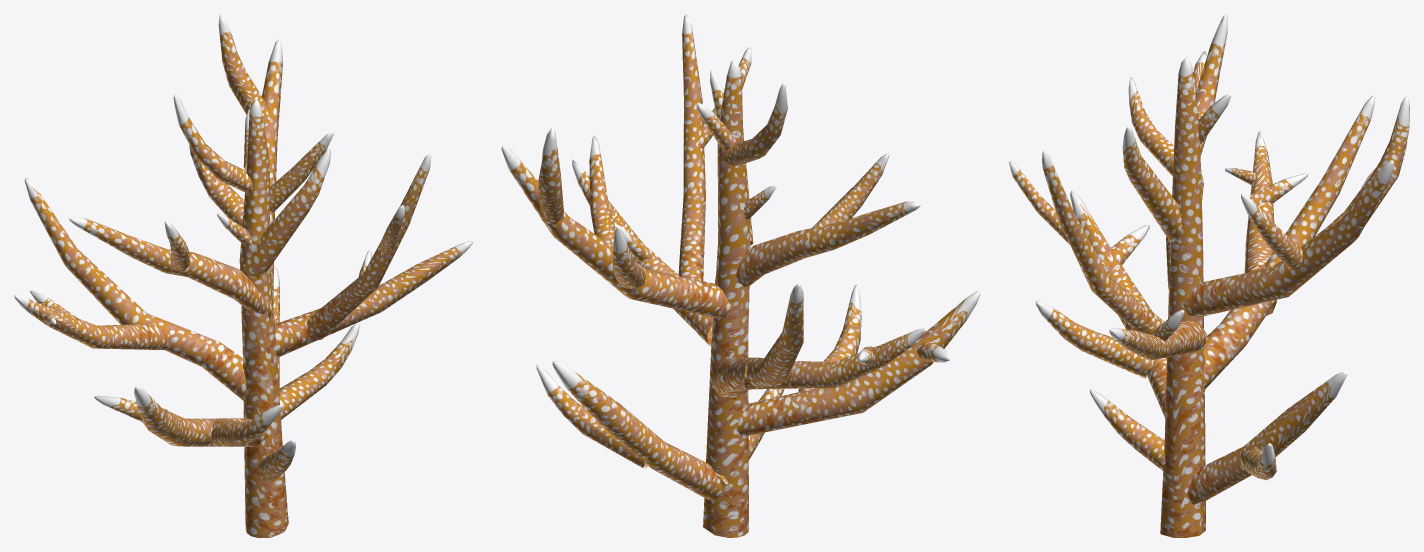
File: StaghornCoral00c.fbx
3 views of the same model, side by side, from view 1: azimuth 30°, elevation 25°; view 2: azimuth 150°, elevation 25°; view 3: azimuth 270°, elevation 25° (orthographic). The views are drawn at different scales.
Parts seen in each view (by area): view 1: Staghorn00c; view 2: Staghorn00c; view 3: Staghorn00c.
Part boxes in pixels (left/top/right/bottom): Staghorn00c: left=14, top=14, right=472, bottom=537; Staghorn00c: left=501, top=14, right=980, bottom=537; Staghorn00c: left=1009, top=14, right=1409, bottom=537.
Size of the model in its own units: 0.838 by 0.9005 by 0.6803.
